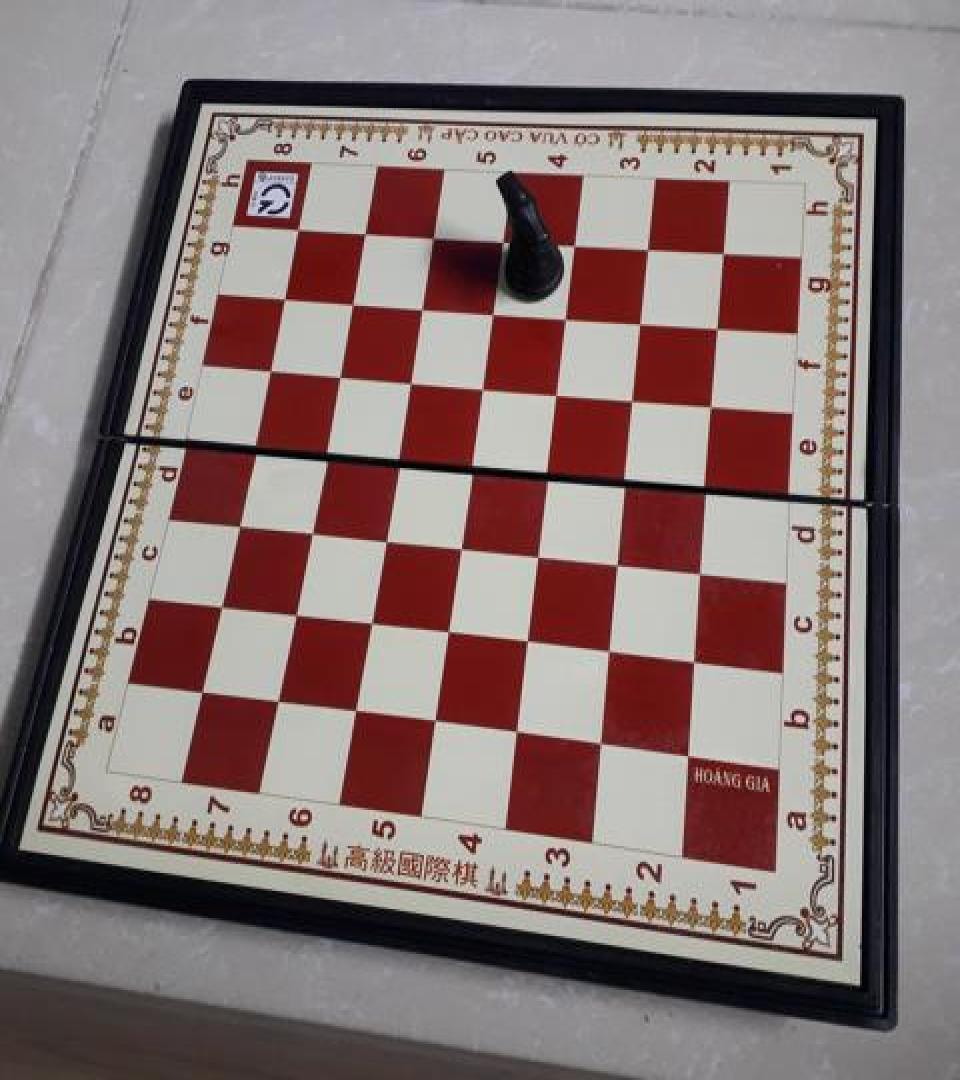xcorner: (341, 693, 369, 725), (420, 704, 448, 736), (502, 715, 530, 747), (674, 740, 702, 772), (206, 585, 234, 617), (280, 594, 308, 626), (355, 603, 383, 635), (433, 613, 461, 645), (513, 623, 541, 655), (595, 633, 623, 665), (445, 526, 473, 558), (523, 535, 551, 567), (603, 544, 631, 576), (686, 553, 714, 585), (240, 424, 268, 456), (457, 445, 485, 477), (533, 452, 561, 484), (611, 460, 639, 492), (691, 468, 719, 500), (324, 355, 352, 387), (395, 361, 423, 393), (542, 373, 570, 405), (618, 380, 646, 412), (271, 279, 299, 311), (338, 283, 366, 315), (407, 289, 435, 321), (551, 298, 579, 330), (702, 309, 730, 341), (285, 211, 313, 243), (419, 219, 447, 251), (559, 227, 587, 259), (706, 235, 734, 267), (188, 672, 216, 703), (263, 682, 291, 713), (587, 728, 615, 759), (680, 645, 708, 676), (223, 503, 251, 534), (295, 511, 323, 542), (369, 519, 397, 550), (310, 431, 338, 462), (383, 438, 411, 469), (256, 350, 284, 381), (468, 368, 496, 399), (697, 386, 725, 417), (478, 294, 506, 325), (625, 304, 653, 335), (351, 215, 379, 246), (488, 223, 516, 254), (632, 232, 660, 263)
